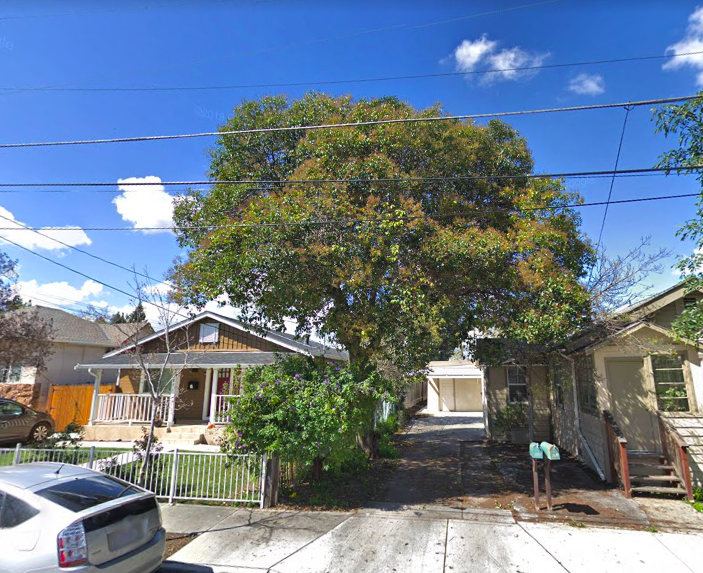tree: (172, 87, 598, 461)
